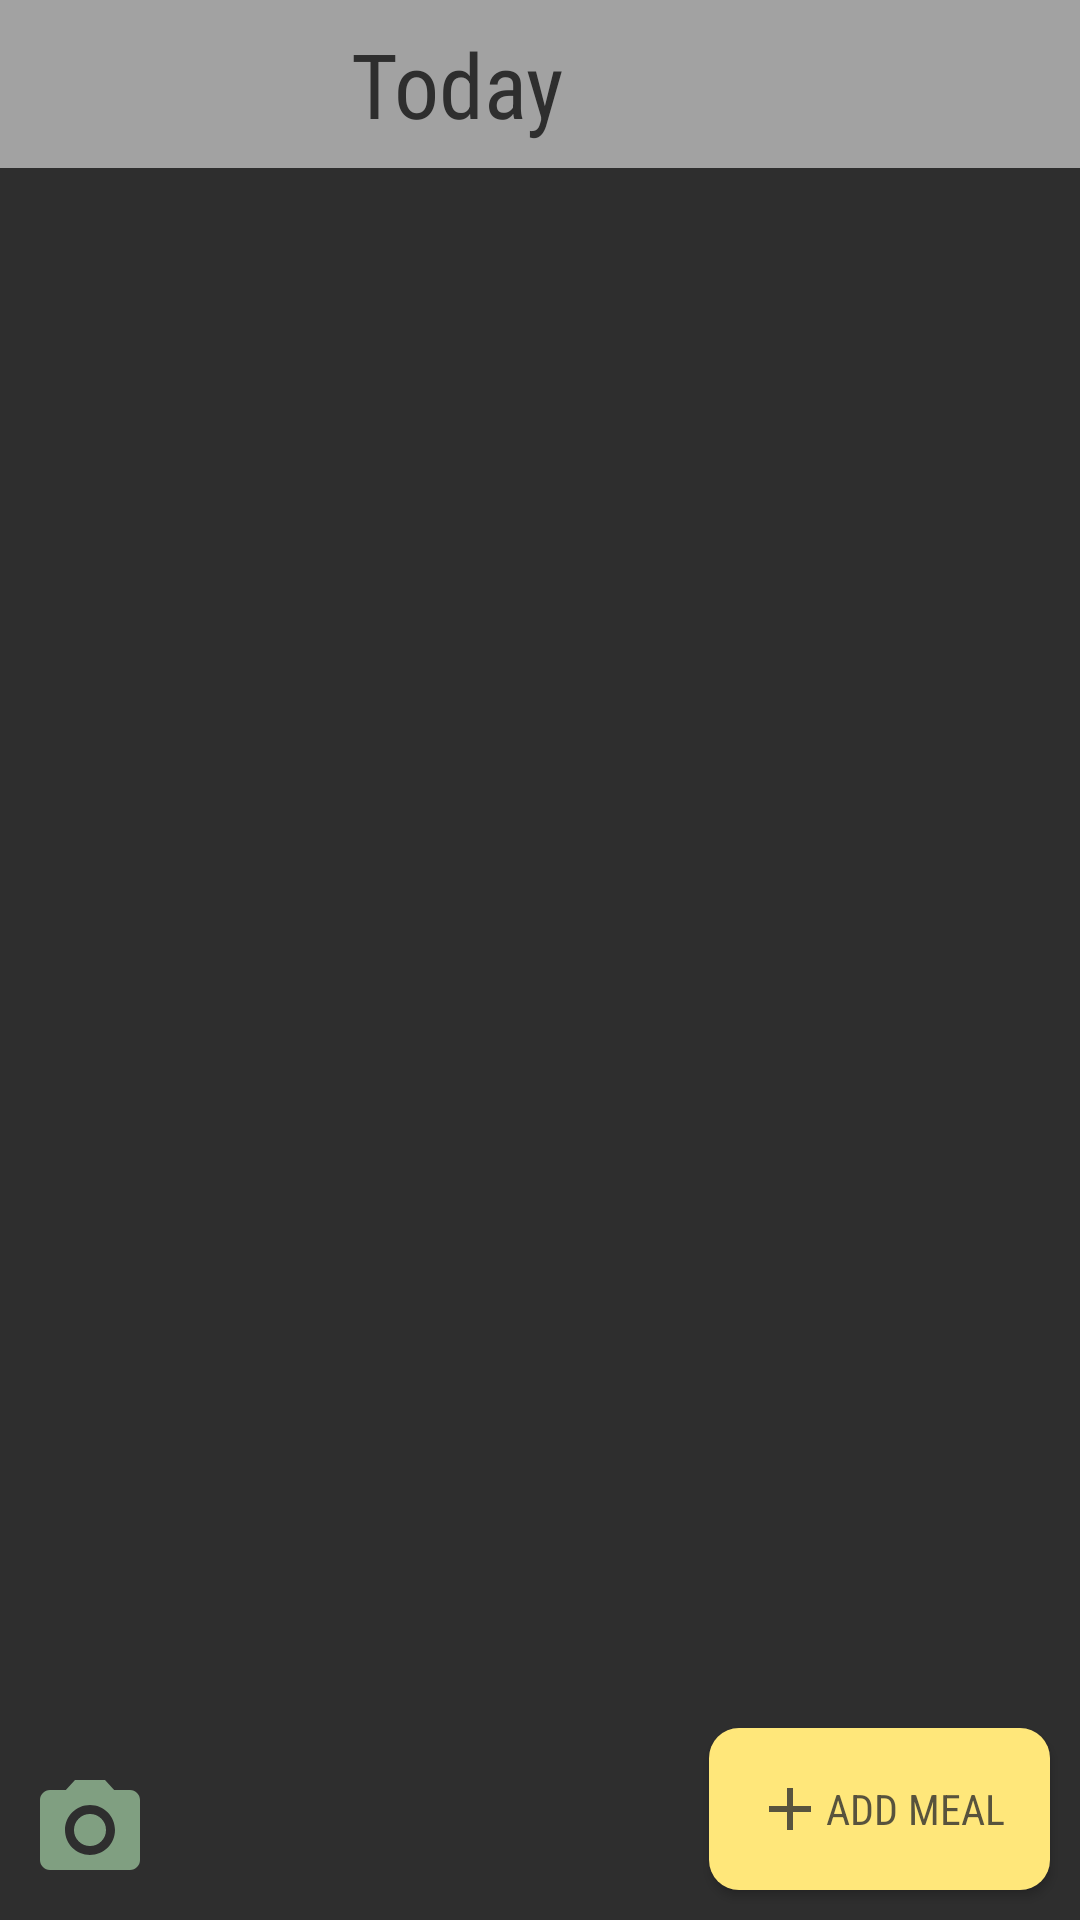

Locate icon controls on the screen. Image size 1080*1920, boxes as (x1, y1, x2, y2).
camera: (40, 1780, 140, 1870)
